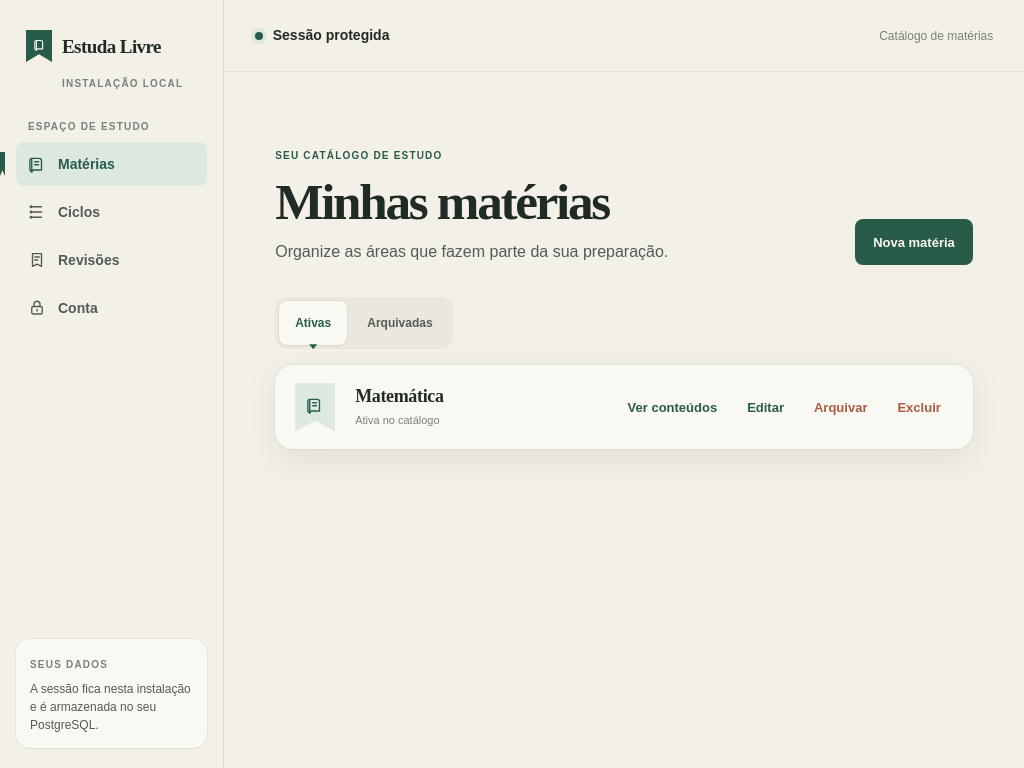
Scenario: authentication journey › moves a subject between active and archived catalogs
This screenshot has width=1024, height=768.
Click the button with aria-label "Arquivar Matemática" at x=841, y=407, box [802,385,880,429]
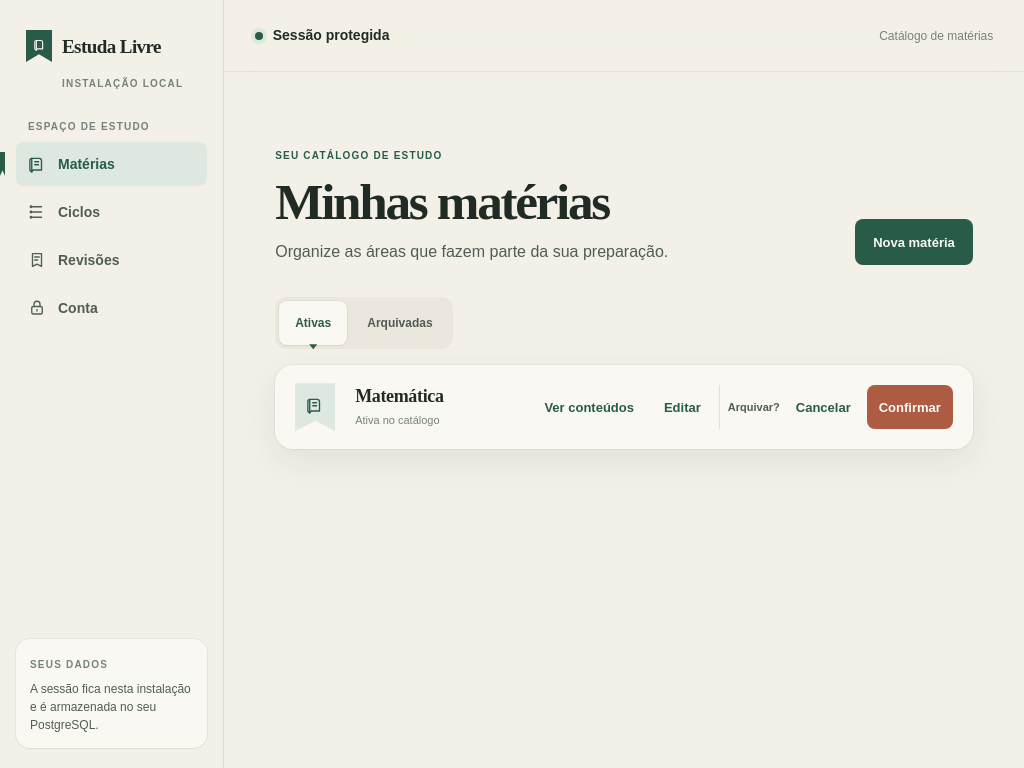
Click the button with aria-label "Confirmar arquivamento" at x=910, y=407, box [867,385,953,429]
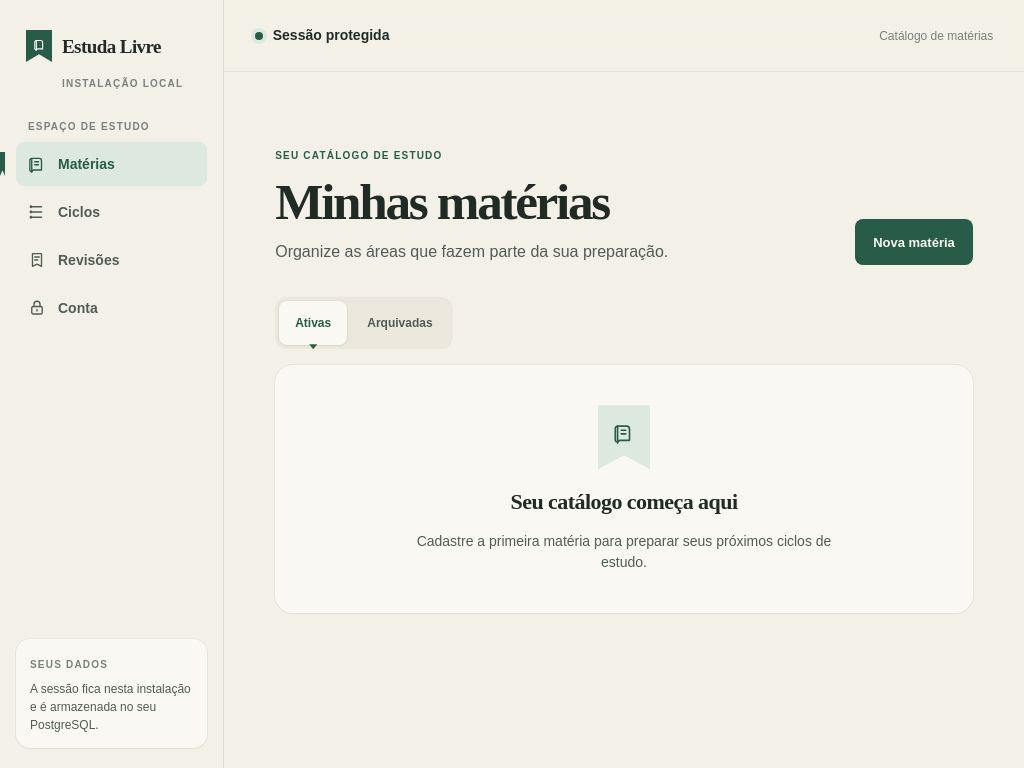
Expected: the heading "Matemática" is gone
Click the tab "Arquivadas" at x=400, y=323, box [351,301,449,345]
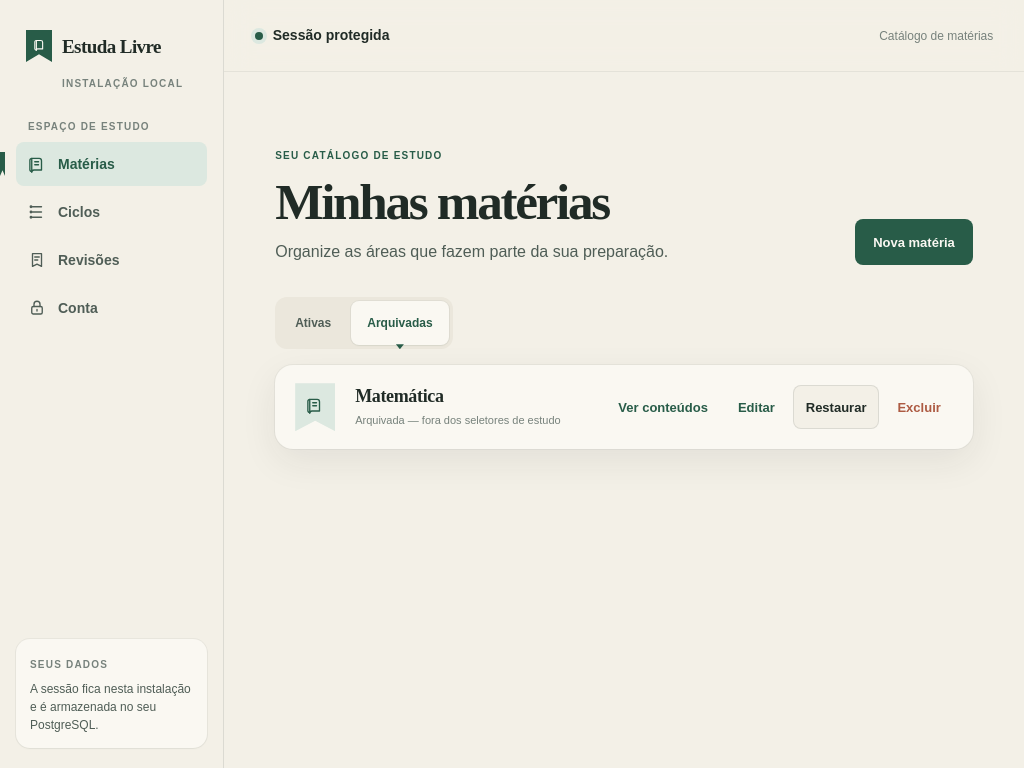
Expected: the heading "Matemática" is shown, [355,386,444,406]
Click the button with aria-label "Restaurar Matemática" at x=836, y=407, box [793,385,880,429]
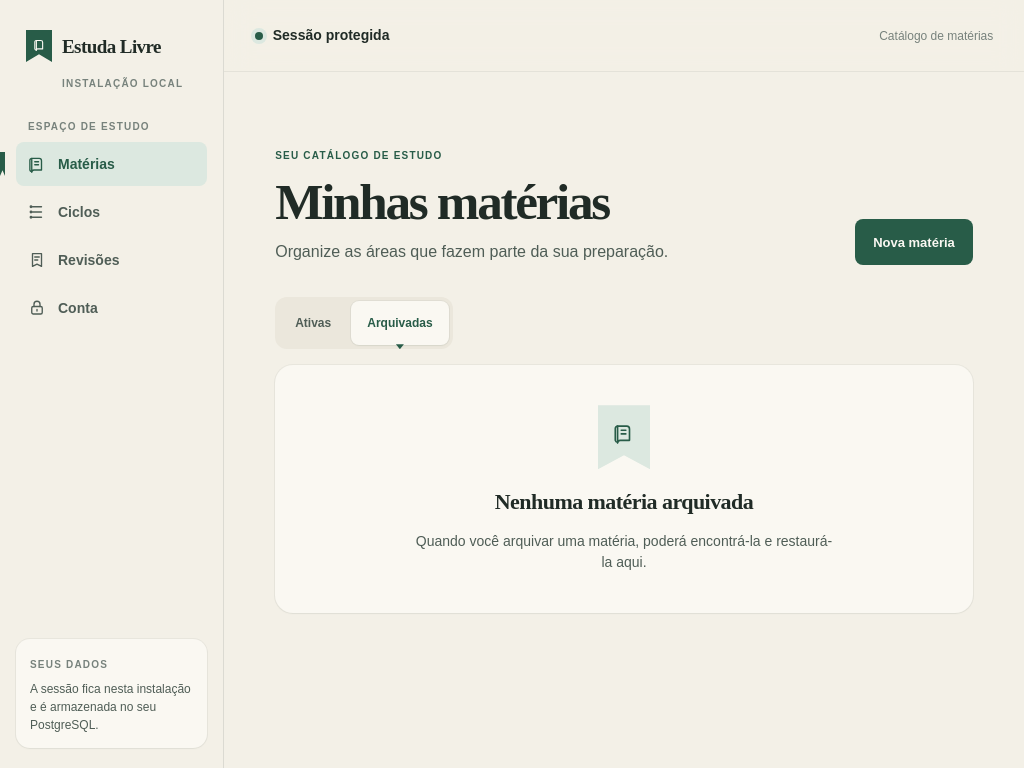
Expected: the heading "Matemática" is gone
Click the tab "Ativas" at x=313, y=323, box [279,301,347,345]
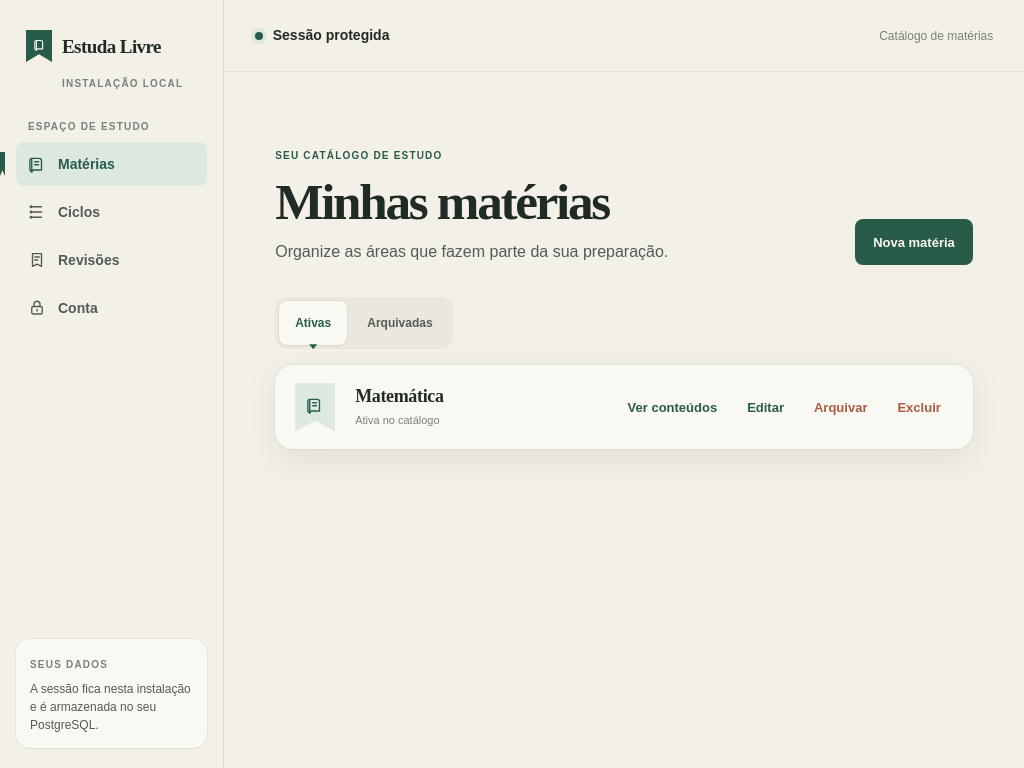
Expected: the heading "Matemática" is shown, [355,386,444,406]
